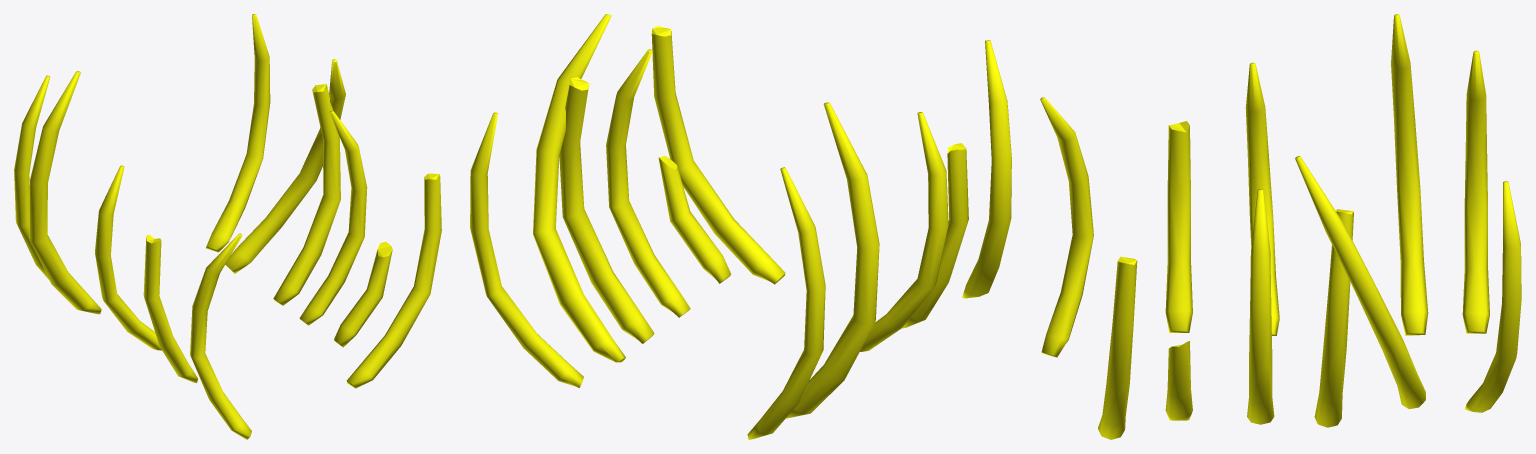
File: bone_whale_rib_up00.glb
3 views of the same model, side by side, from view 1: azimuth 30°, elevation 25°; view 2: azimuth 150°, elevation 25°; view 3: azimuth 270°, elevation 25° (orthographic). The views are drawn at different scales.
Visible parts, largest first — view 1: bone_whale_rib_up00; view 2: bone_whale_rib_up00; view 3: bone_whale_rib_up00.
Boxes of the visible parts, bbox=[...] form: bone_whale_rib_up00: bbox=[14, 14, 441, 439]; bone_whale_rib_up00: bbox=[470, 14, 1011, 439]; bone_whale_rib_up00: bbox=[1040, 14, 1521, 439].
Bounding box in the file's own units: 16.64 × 14.38 × 19.33.
1 material, 1 textured.
